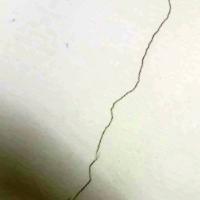crack: (69, 0, 172, 199)
